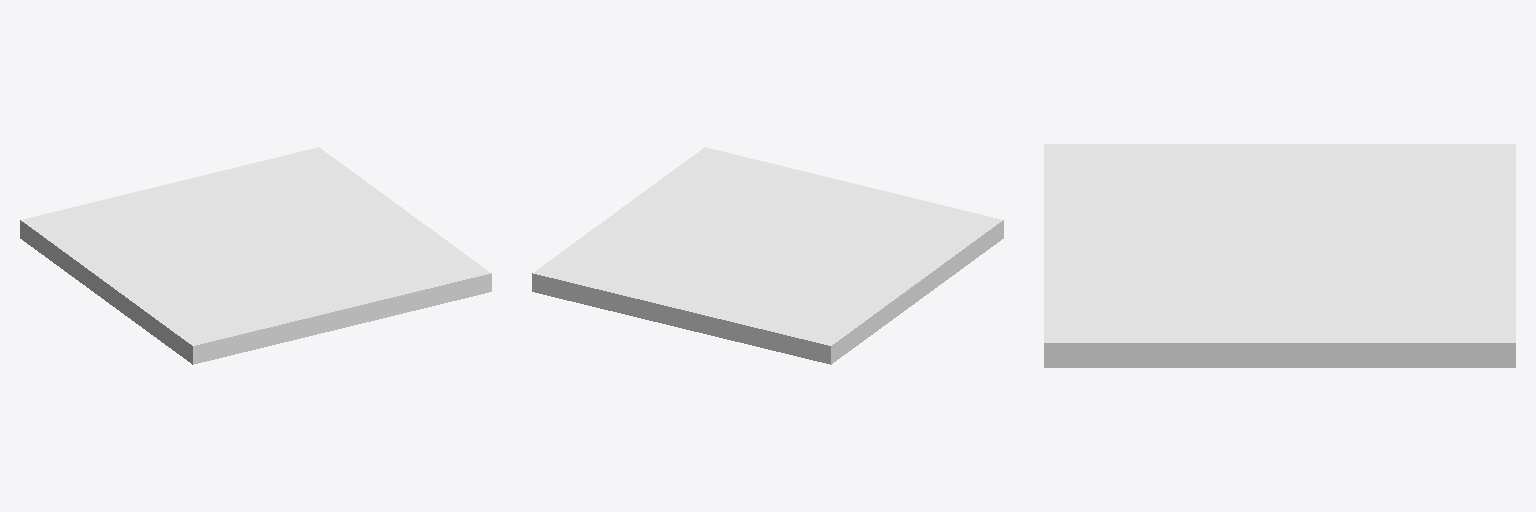
The robot description file, URDF, robot "mesh":
<?xml version="1.0" ?>
<robot name="mesh">
  <link name="baselink">
    <inertial>
      <origin rpy="0 0 0" xyz="0 0 0"/>
       <mass value=".0"/>
       <inertia ixx="0" ixy="0" ixz="0" iyy="0" iyz="0" izz="0"/>
    </inertial>
    <visual>
      <origin rpy="0 0 -1.5707963" xyz="0 0 0"/>
      <geometry>
      	<mesh filename="package://robots/meshes/visual/apriltag_id0_square.obj" scale="0.6 0.6 1"/>
      </geometry>
       <material name="white">
        <color rgba="1 1 1 1"/>
      </material>
    </visual>
    <collision concave="yes">
      <origin rpy="0 0 -1.5707963" xyz="0 0 0"/>
     <geometry>
	      <mesh filename="package://robots/meshes/visual/apriltag_id0_square.obj" scale="0.6 0.6 1"/>
      </geometry>
    </collision>
  </link>
</robot>
<!-- Physical size 0.162m x 0.162m -->

--- Render facts (derived) ---
3 views of the same robot in one strip: view 1: azimuth 30°, elevation 25°; view 2: azimuth 150°, elevation 25°; view 3: azimuth 270°, elevation 25° (orthographic).
Robot: mesh — 1 links, 0 joints (none); root link baselink; default pose: every joint at zero.
Links seen in each view (by area): view 1: baselink; view 2: baselink; view 3: baselink.
Link boxes in pixels (x1=…): baselink: x1=20, y1=147, x2=491, y2=364; baselink: x1=532, y1=147, x2=1003, y2=364; baselink: x1=1044, y1=144, x2=1515, y2=367.
Bounding box of the posed robot: 0.168 × 0.168 × 0.01 m (x, y, z).
1 mesh visuals loaded from 1 distinct referenced files (1 OBJ).
